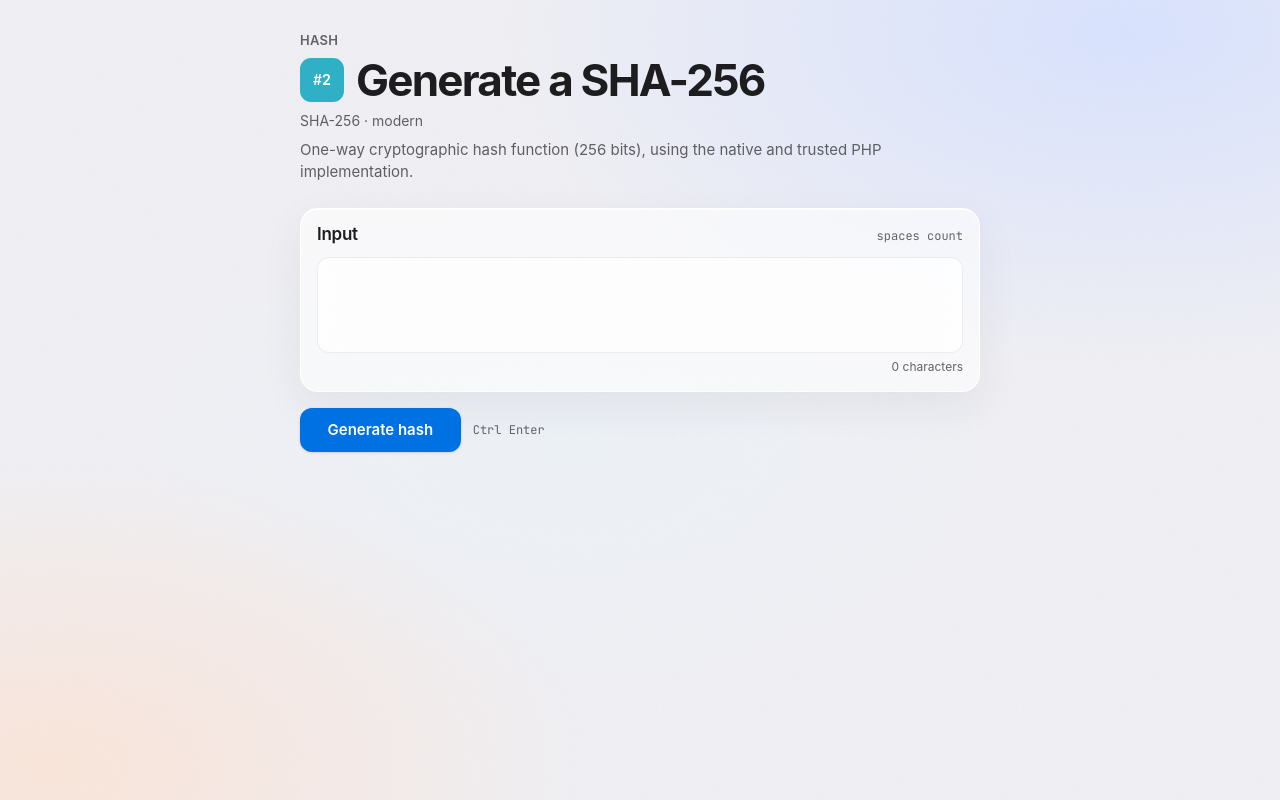
Test case: Workbench › 429 shows "Wait a moment" and re-enables Run after the cooldown
Later steps or results of the test are not shown.
Expected: the heading "Generate a SHA-256" is shown, [356,57,765,103]
Click the button "Generate hash".
click(380, 430)  # box [300,408,461,452]
Wait 60100 ms
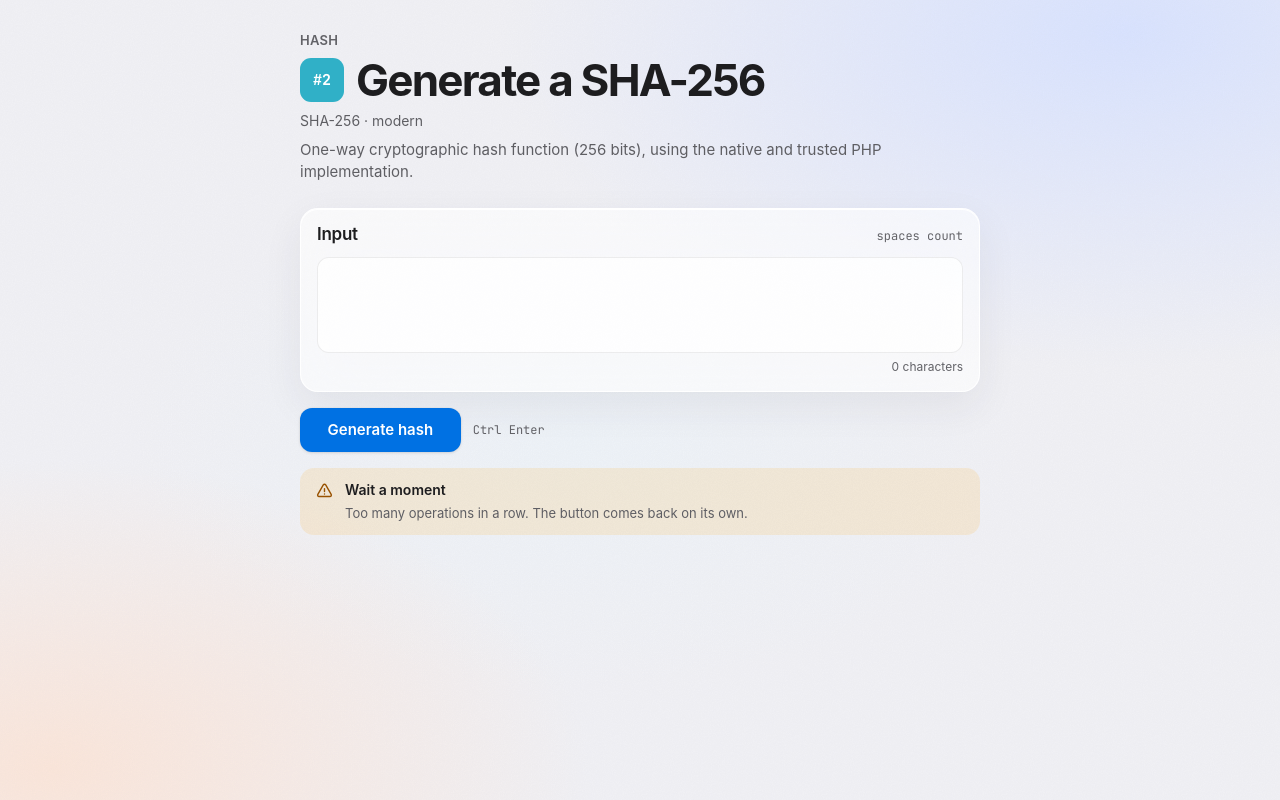
Expected: the text "Wait a moment" is shown, [345,481,446,498]
